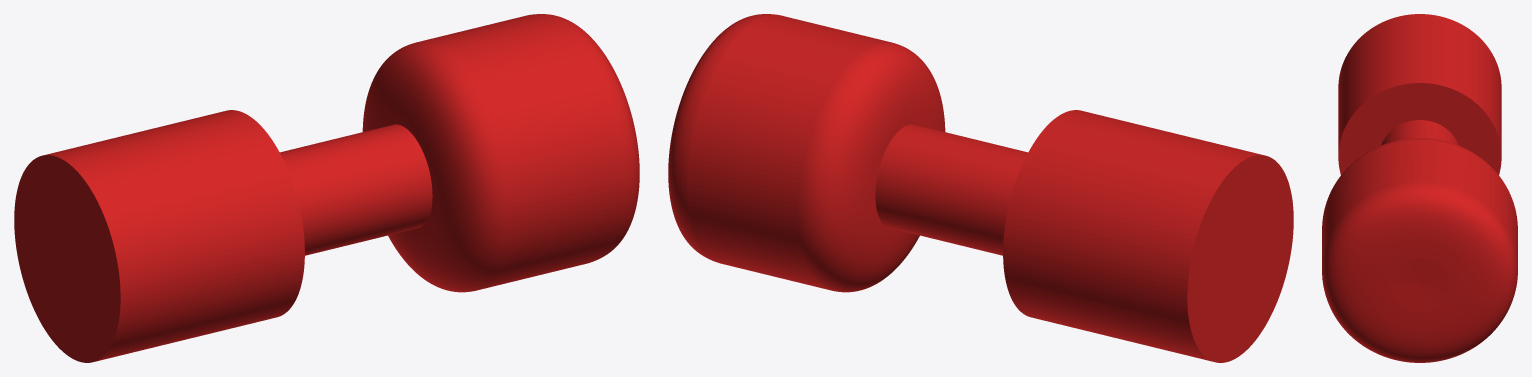
File: 5_colored.obj
3 views of the same model, side by side, from view 1: azimuth 30°, elevation 25°; view 2: azimuth 150°, elevation 25°; view 3: azimuth 270°, elevation 25° (orthographic). The views are drawn at different scales.
Size of the model in its own units: 0.0285 by 0.012 by 0.012.
